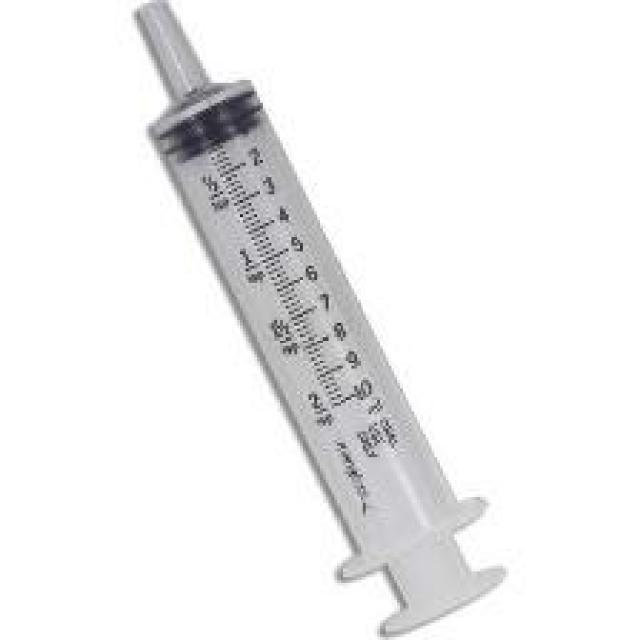syringe: (98, 2, 529, 631)
